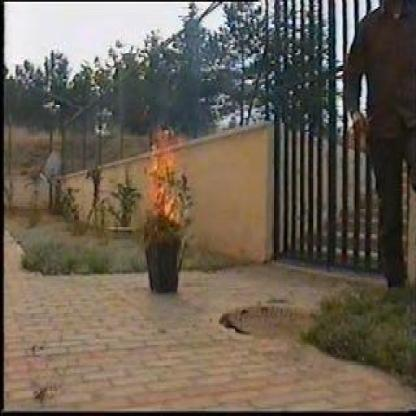foggia-v2-map80-epoch100 - v1 4323: (147, 127, 179, 221)
